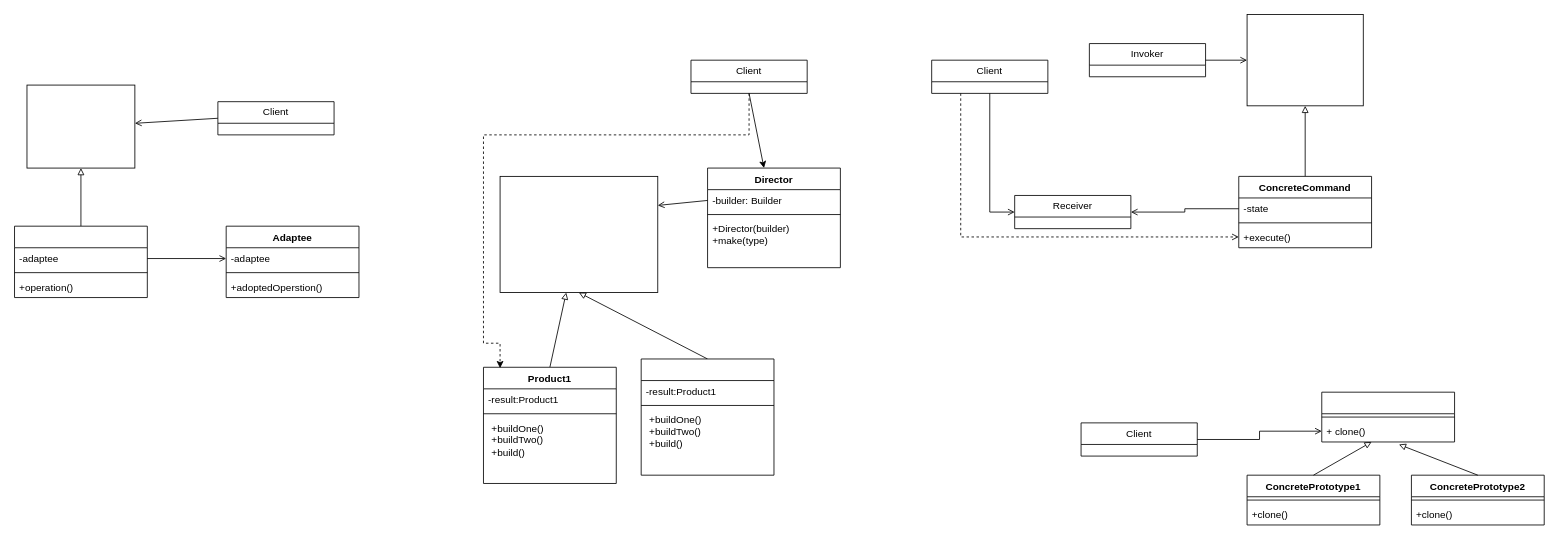
Image size: 1559x542. Some labels were removed from this diagram. Here are the shapes that lost their labels. From the top down, the box of each, then its label:
(1246, 14, 1363, 106): <<Interface>> Command +execute()
(26, 84, 135, 168): <<Interface>> Adapter +operation()
(499, 176, 658, 293): <<Interface>> Builder +buildOne() +buildTwo() +build()
(14, 225, 147, 298): ConcreteAdapter
(640, 358, 774, 475): Product2
(1321, 391, 1455, 442): Prototype
